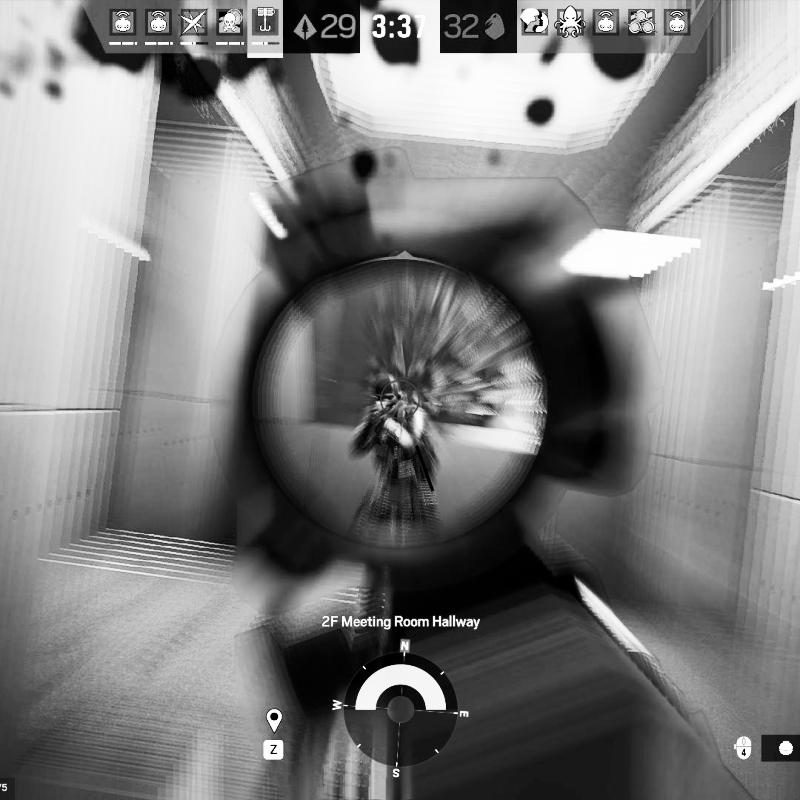Character: (345, 374, 446, 544)
Head: (372, 374, 401, 410)
